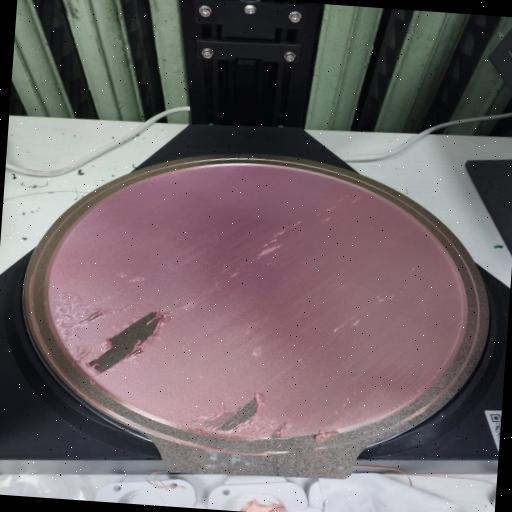blobs: (308, 429, 346, 448), (128, 274, 148, 284)
